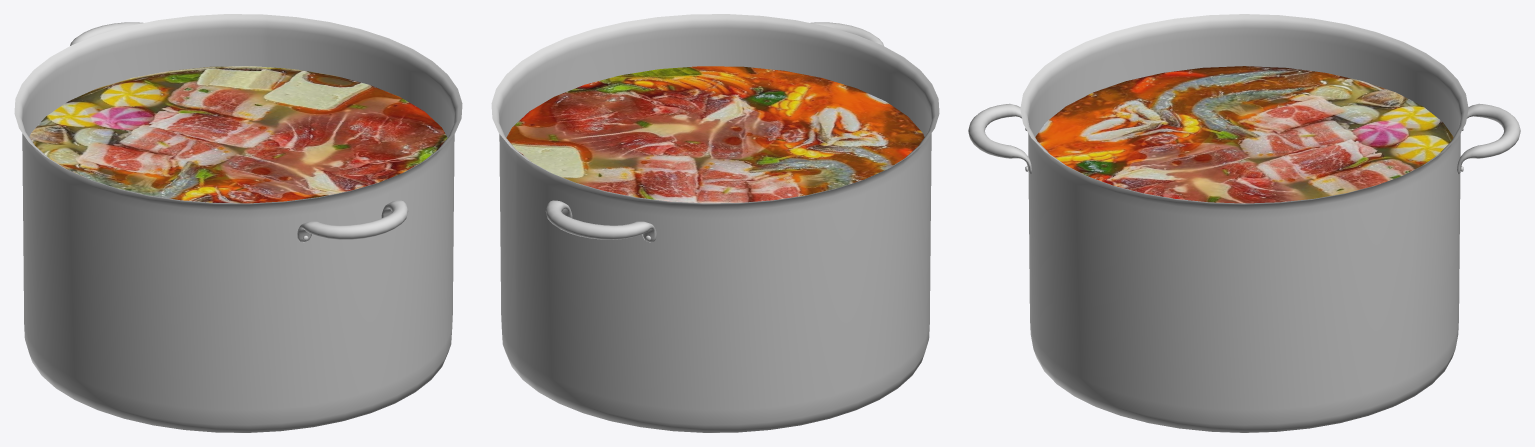
The model's file is Kitchen Pot.fbx.
3 renders of one model, left to right at view 1: azimuth 30°, elevation 25°; view 2: azimuth 150°, elevation 25°; view 3: azimuth 270°, elevation 25°, orthographic.
Visible parts, largest first — view 1: Kitchen Pot.002, Circle; view 2: Kitchen Pot.002, Circle; view 3: Kitchen Pot.002, Circle.
Boxes of the visible parts, x1,y1,x2,y2 form: Kitchen Pot.002: (14, 14, 462, 432); Circle: (29, 66, 447, 203); Kitchen Pot.002: (491, 14, 939, 432); Circle: (506, 66, 924, 203); Kitchen Pot.002: (968, 14, 1520, 432); Circle: (1035, 66, 1453, 203).
Bounding box in the file's own units: 35.2 × 17.14 × 28.57.
Materials: 2 (1 with a texture image).
